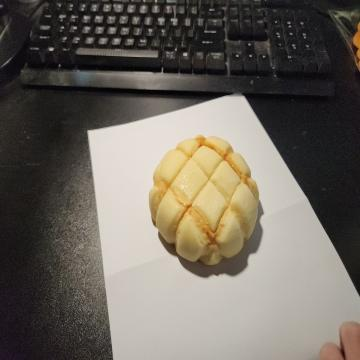melon_bread: (149, 135, 260, 265)
